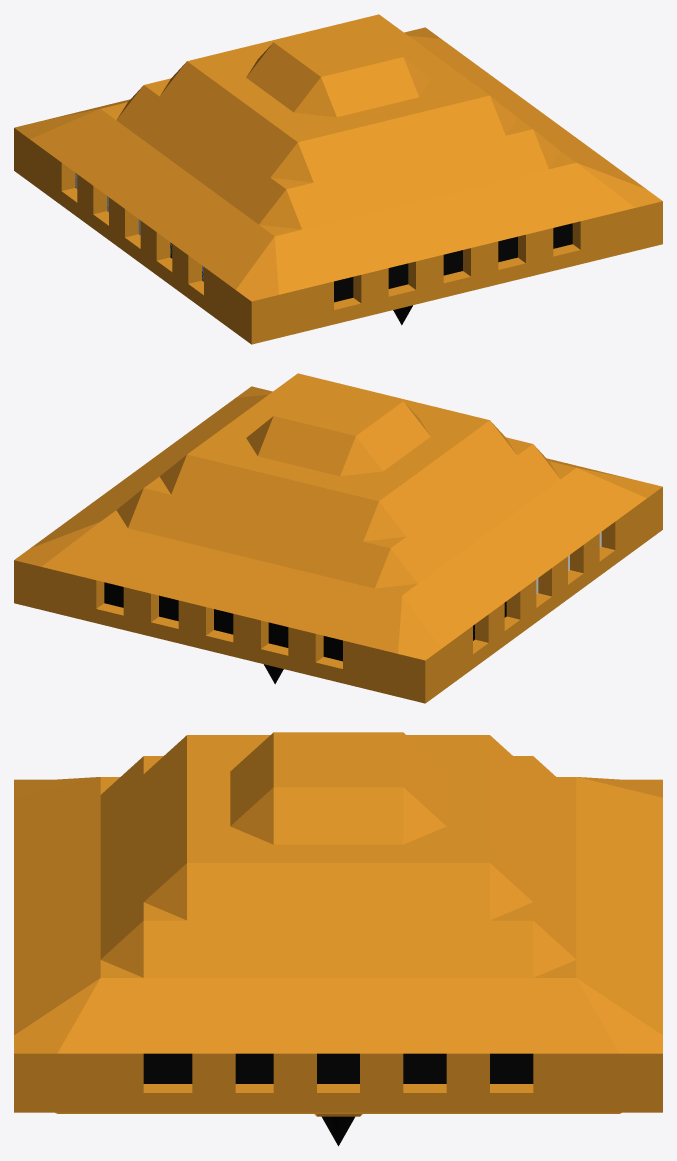
The model's file is ovni.glb.
3 views of the same model, one above another, from view 1: azimuth 30°, elevation 25°; view 2: azimuth 150°, elevation 25°; view 3: azimuth 270°, elevation 25° (orthographic). The views are drawn at different scales.
Parts seen in each view (by area): view 1: Cube, Cube.002; view 2: Cube, Cube.002; view 3: Cube, Cube.002.
Boxes of the visible parts, x1,y1,x2,y2 form: Cube: (14,14,662,344); Cube.002: (75,179,572,302); Cube: (14,373,662,703); Cube.002: (104,582,506,661); Cube: (14,732,662,1116); Cube.002: (143,1053,533,1083).
Size of the model in its own units: 30 by 16 by 30.
